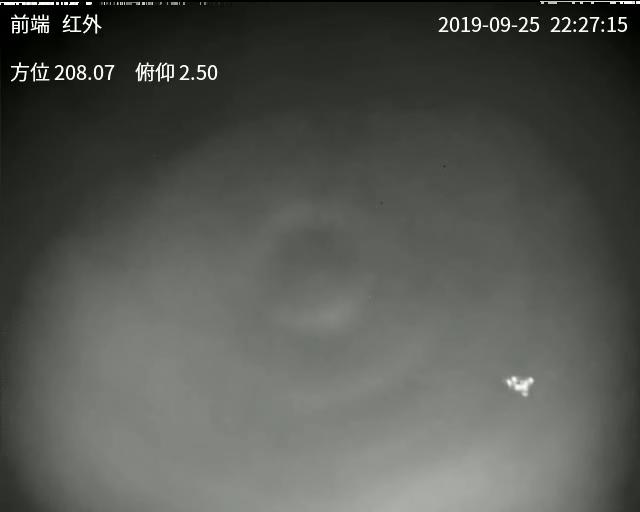uav: (498, 371, 538, 398)
